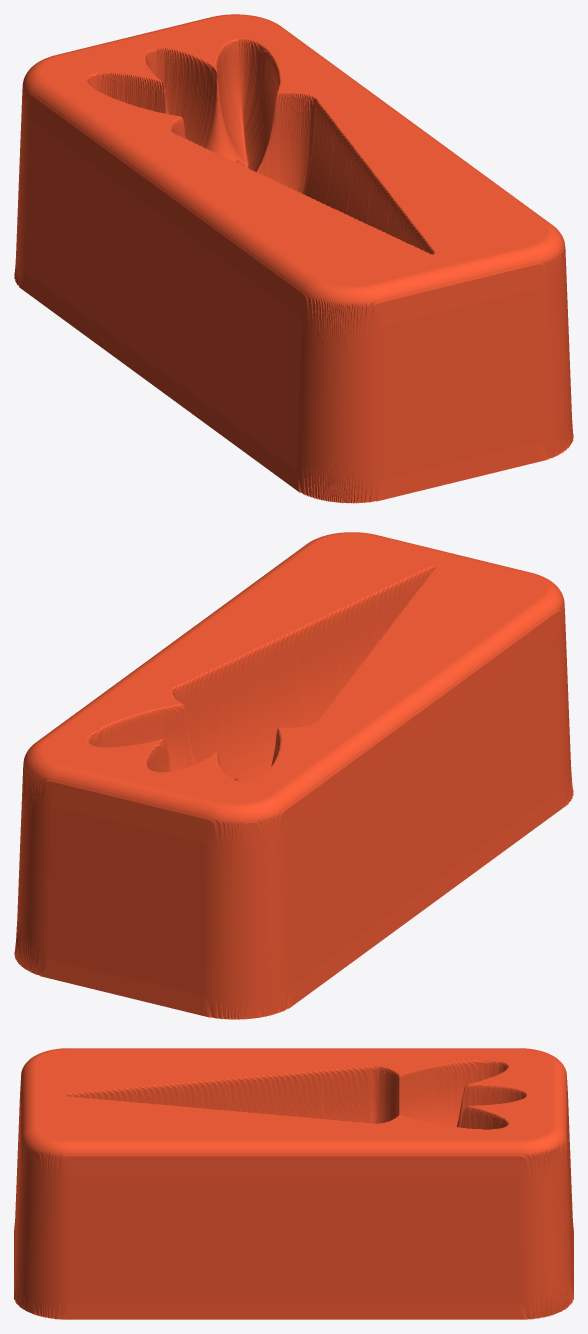
File: mold.glb
3 views of the same model, one above another, from view 1: azimuth 30°, elevation 25°; view 2: azimuth 150°, elevation 25°; view 3: azimuth 270°, elevation 25° (orthographic). The views are drawn at different scales.
Parts seen in each view (by area): view 1: geometry_0; view 2: geometry_0; view 3: geometry_0.
Boxes of the visible parts, x1,y1,x2,y2 form: geometry_0: (14, 14, 573, 503); geometry_0: (14, 532, 573, 1019); geometry_0: (14, 1048, 573, 1319).
Size of the model in its own units: 0.0426 by 0.031 by 0.0924.
